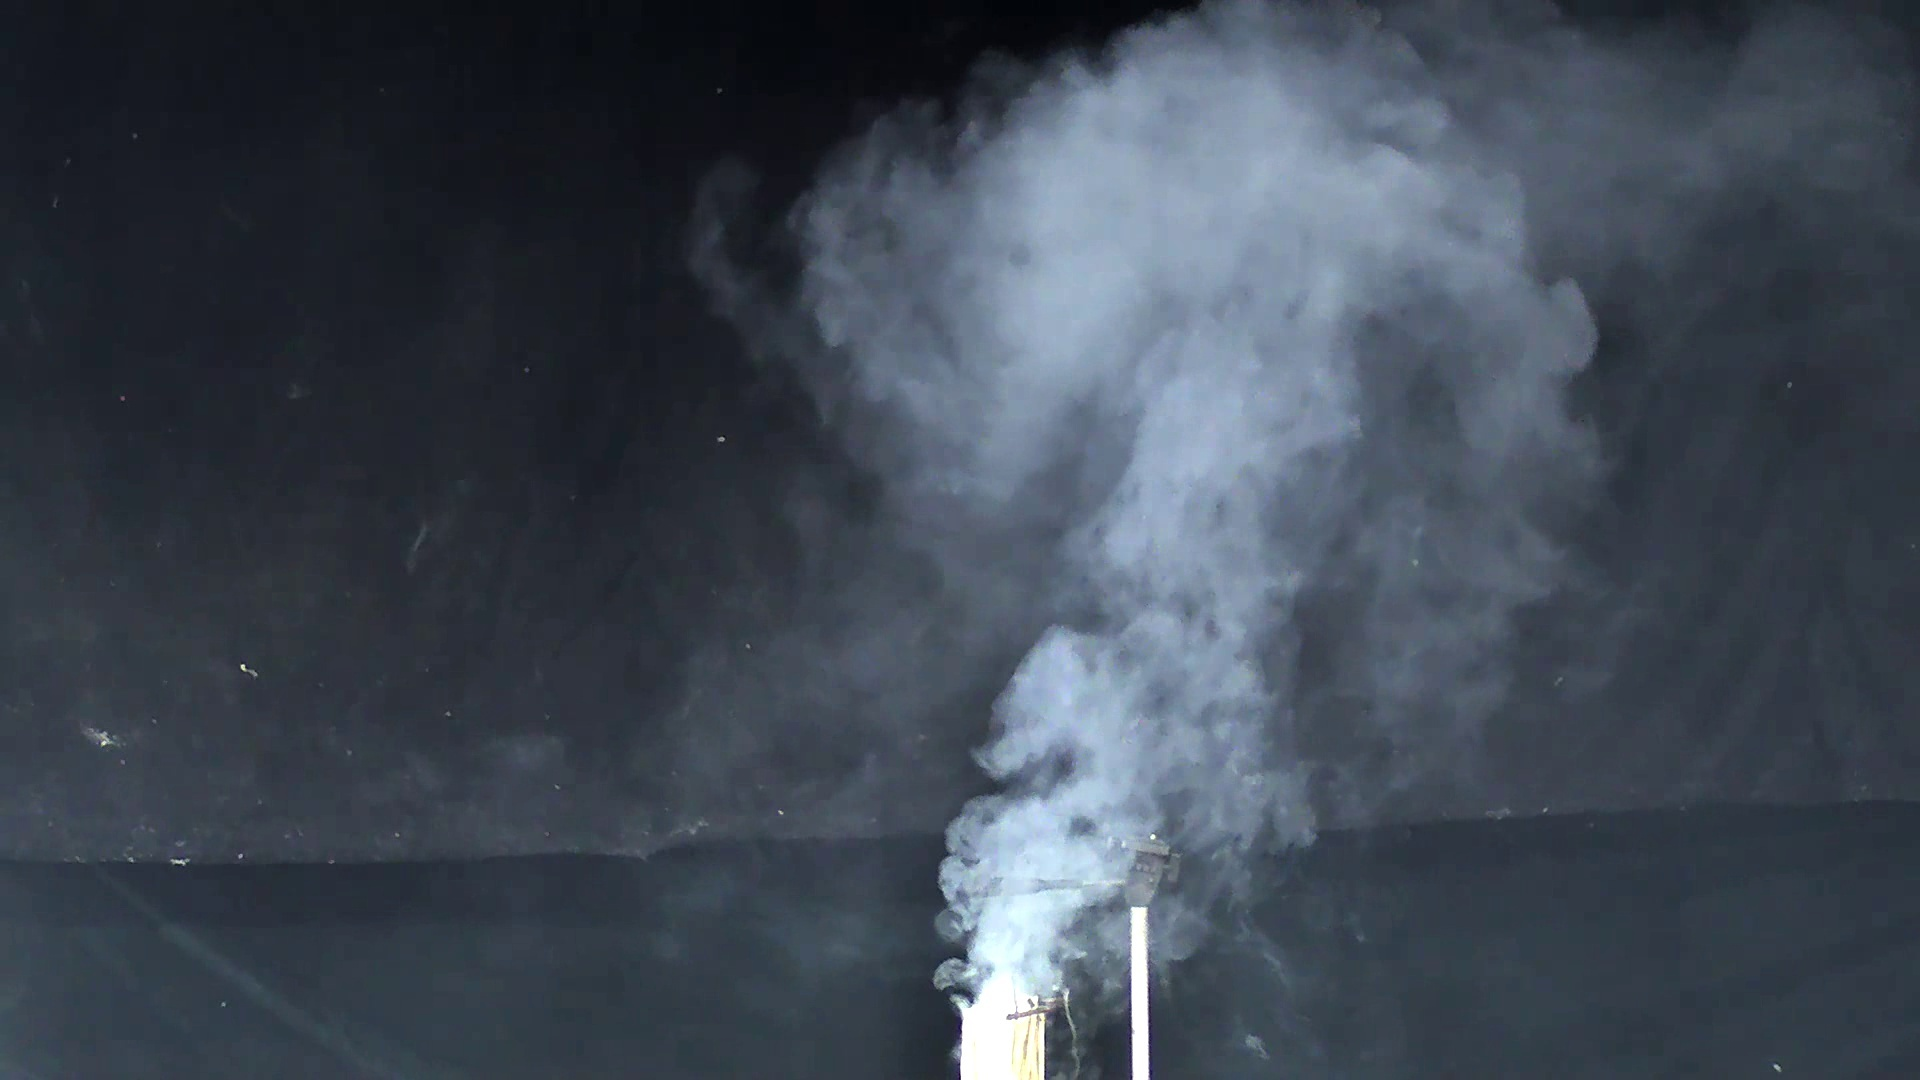smoke: (744, 94, 1606, 951)
